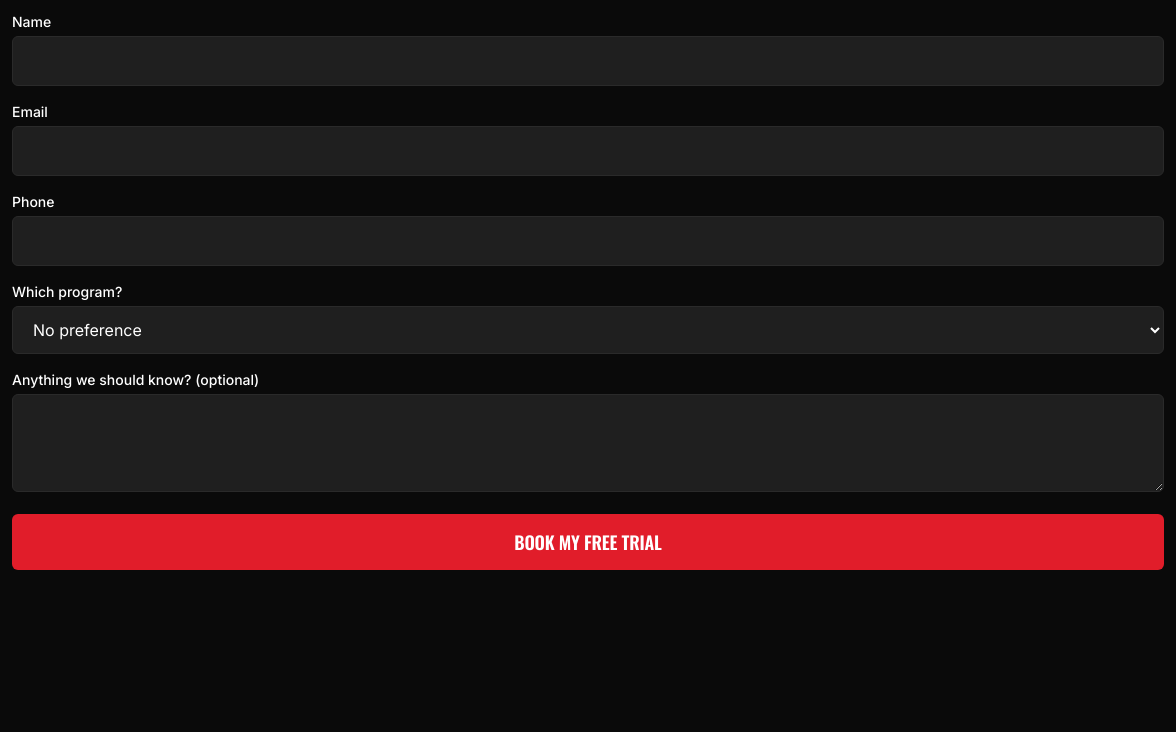
Scenario: LeadForm › surfaces a server error message
Type "Jane Doe" into the field labelled "Name" at (588, 61), box [12,36,1164,86]
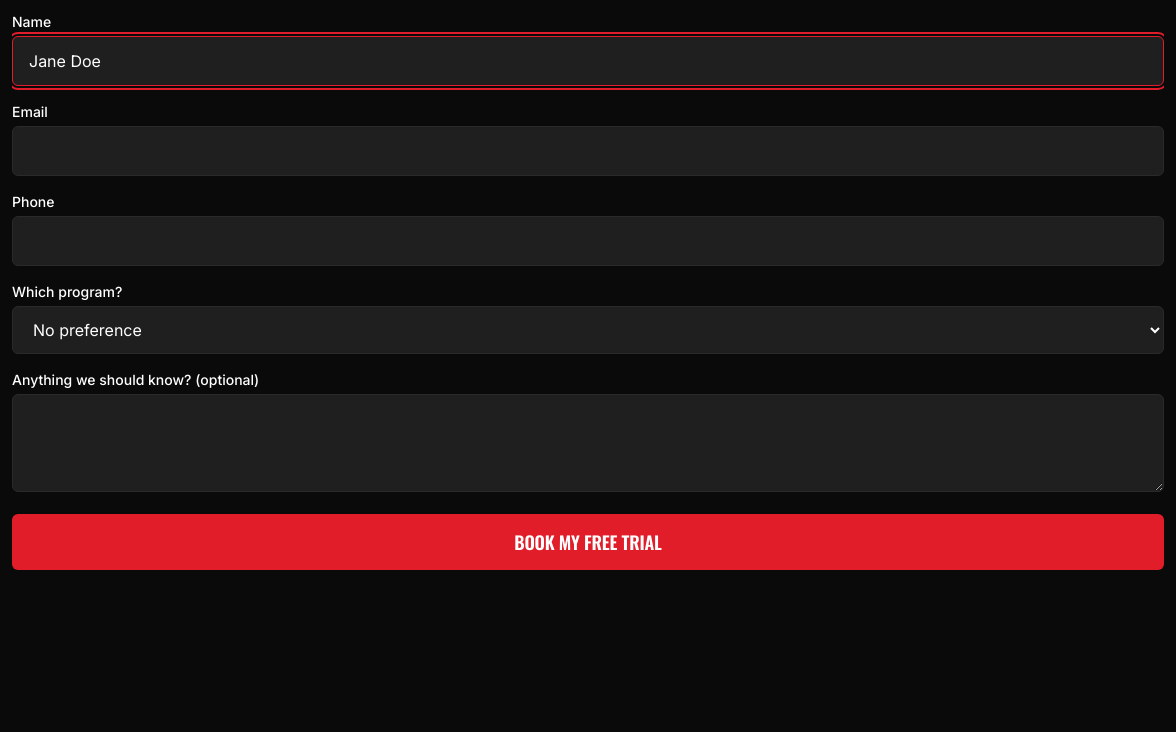
Type "jane@example.com" into the field labelled "Email" at (588, 151), box [12,126,1164,176]
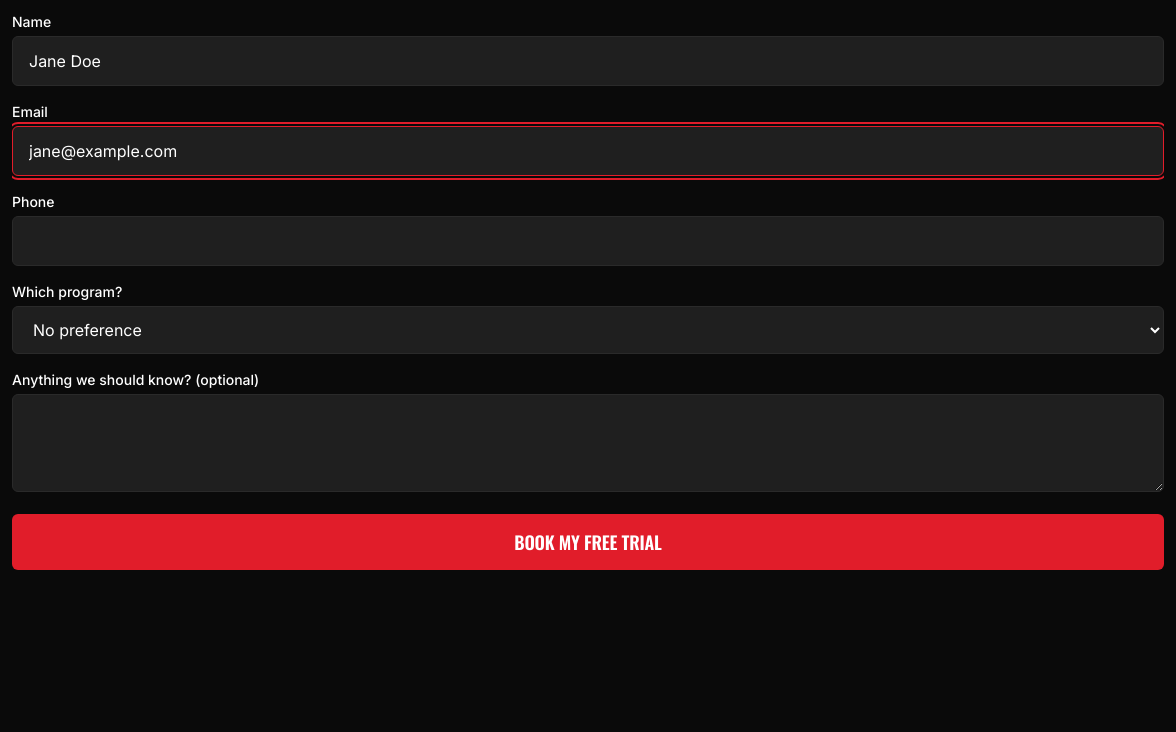
Type "832-555-0100" into the field labelled "Phone" at (588, 241), box [12,216,1164,266]
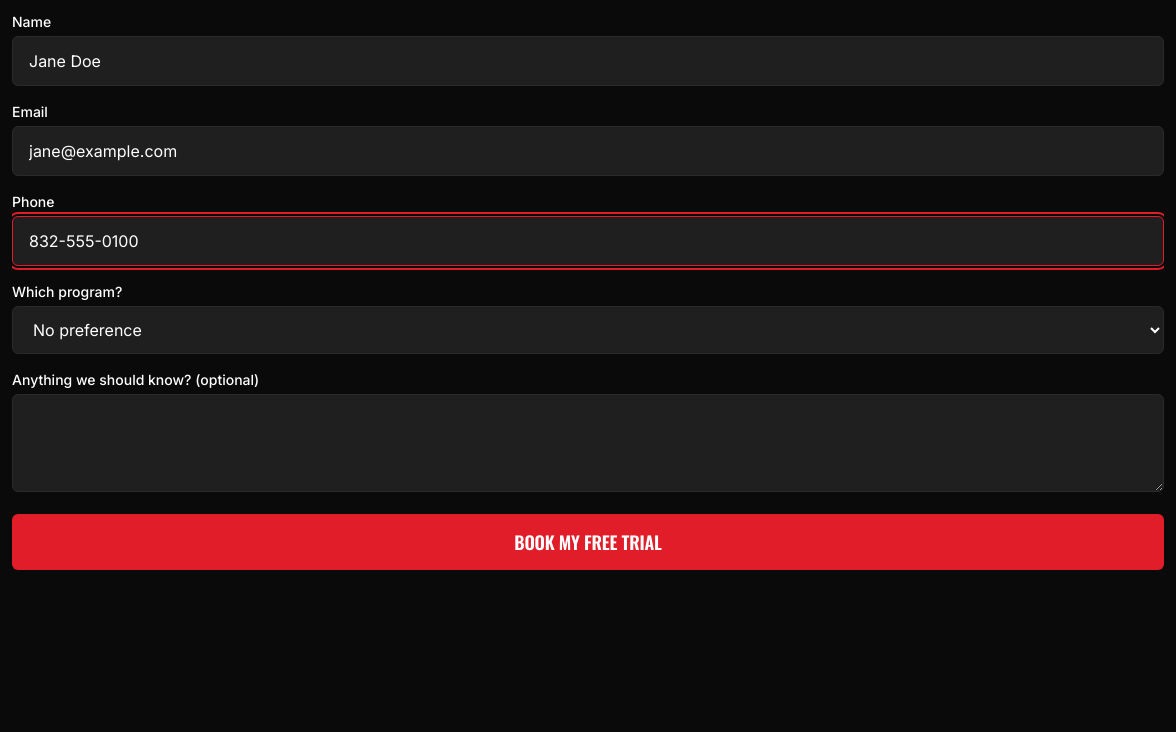
Click the button "Book My Free Trial" at (588, 542), box [12,514,1164,570]
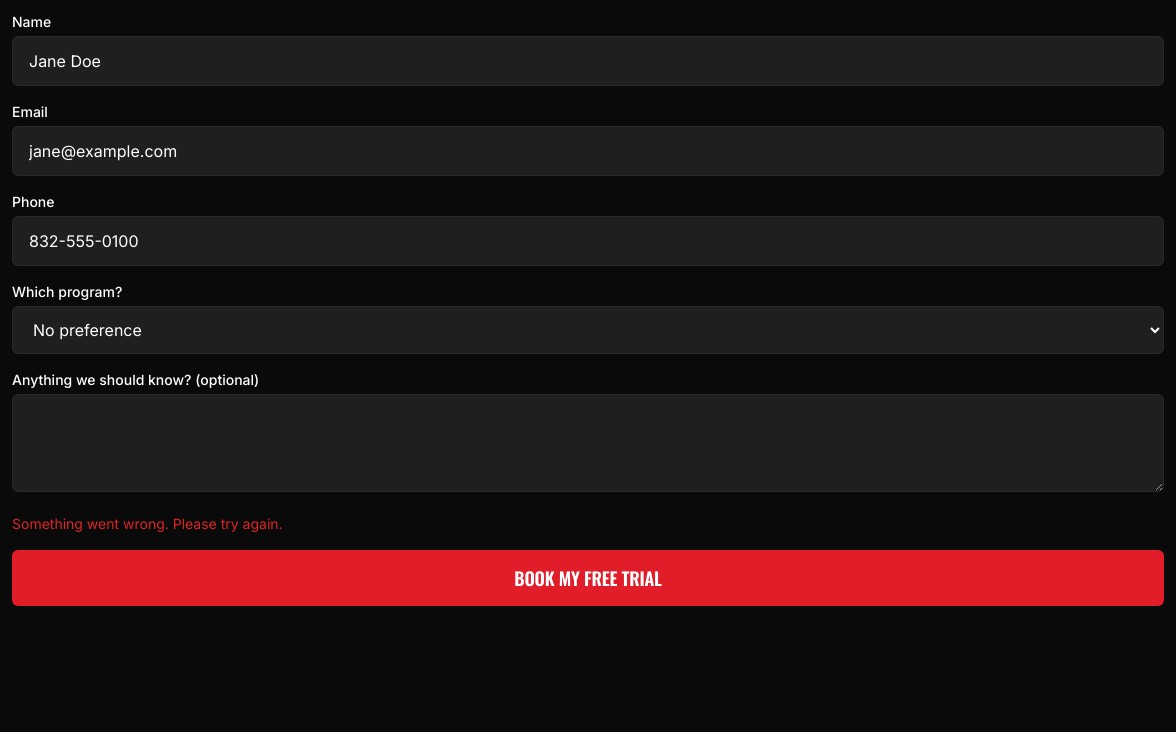
Expected: the message shows "Something went wrong", [12,515,283,532]
